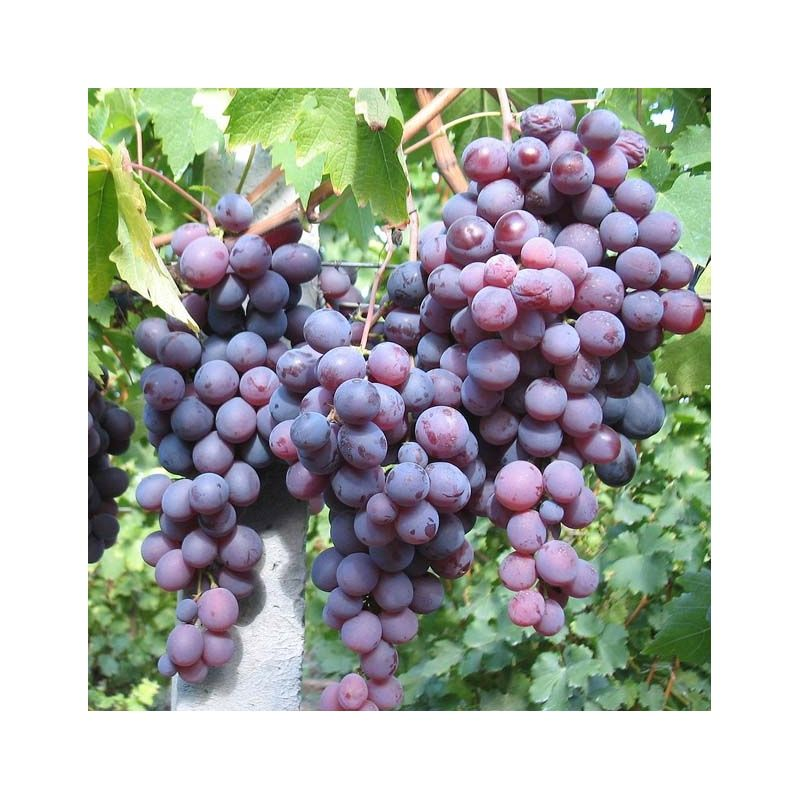Red Grapes: (450, 105, 668, 637), (268, 247, 492, 717), (149, 197, 313, 677)
